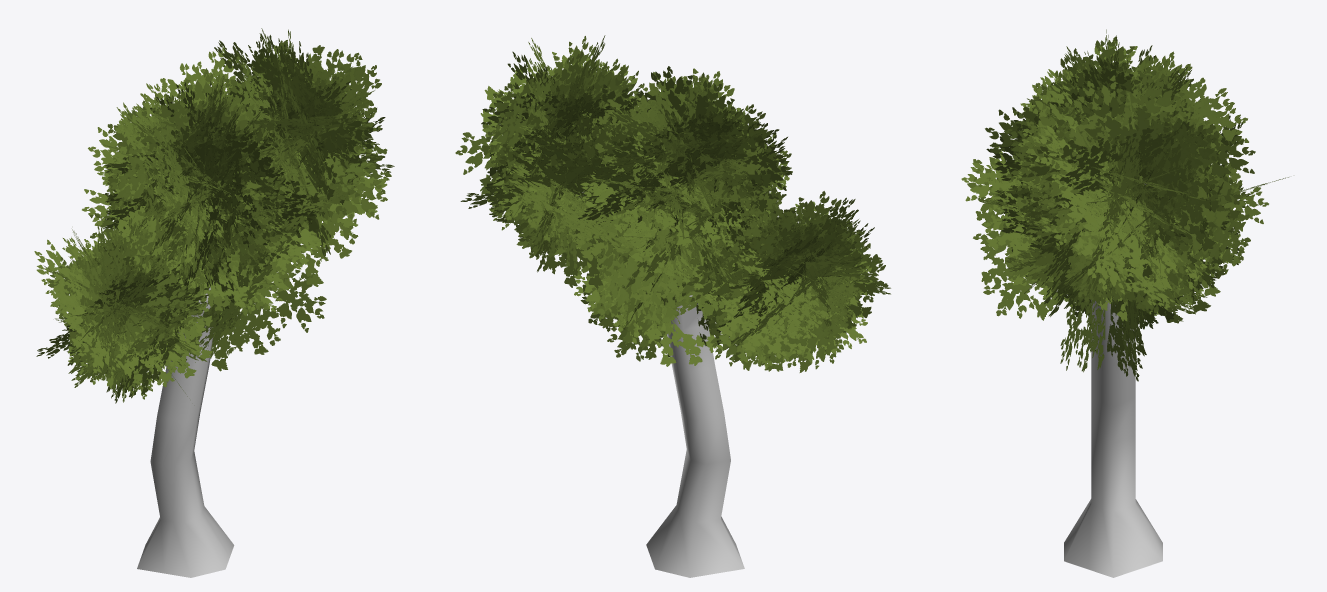
The model's file is Tree.fbx.
3 renders of one model, left to right at view 1: azimuth 30°, elevation 25°; view 2: azimuth 150°, elevation 25°; view 3: azimuth 270°, elevation 25°, orthographic. The views are drawn at different scales.
Visible parts, largest first — view 1: Grass texture.058, Cube.032; view 2: Grass texture.058, Cube.032; view 3: Grass texture.058, Cube.032.
Boxes of the visible parts, x1,y1,x2,y2 form: Grass texture.058: [34, 28, 394, 403]; Cube.032: [137, 287, 234, 577]; Grass texture.058: [455, 35, 890, 372]; Cube.032: [579, 192, 744, 577]; Grass texture.058: [961, 29, 1288, 381]; Cube.032: [1064, 183, 1162, 577].
Bounding box in the file's own units: 5.76 × 6.87 × 4.17.
